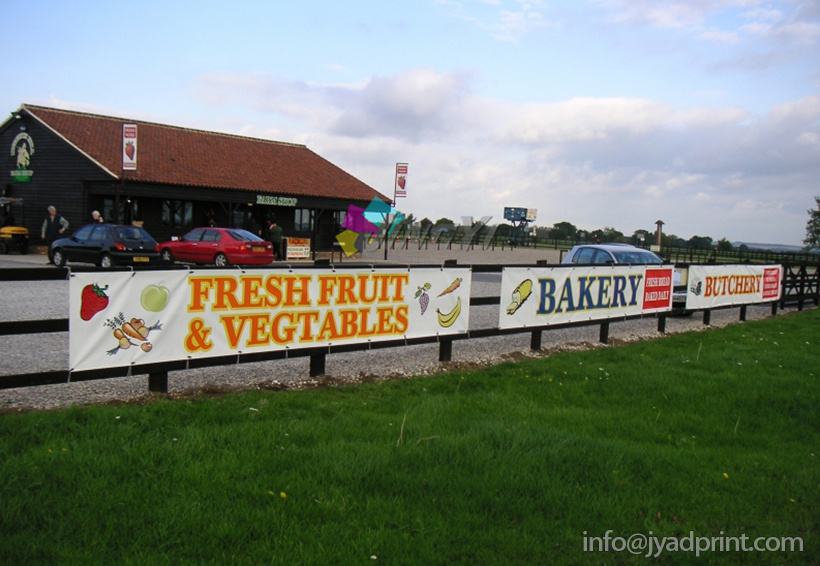vinyl banner: (54, 257, 479, 370), (496, 251, 679, 343), (688, 255, 786, 316)
